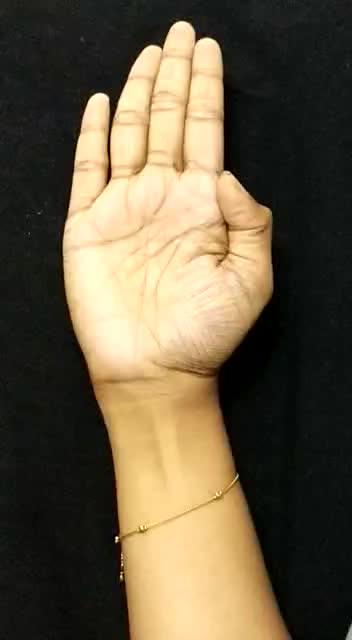pataka: (60, 21, 288, 396)
